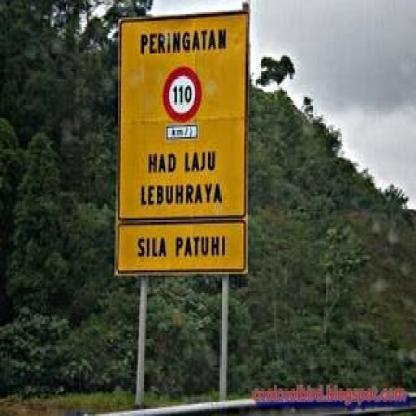Speed Limit 110: (163, 66, 200, 121)
